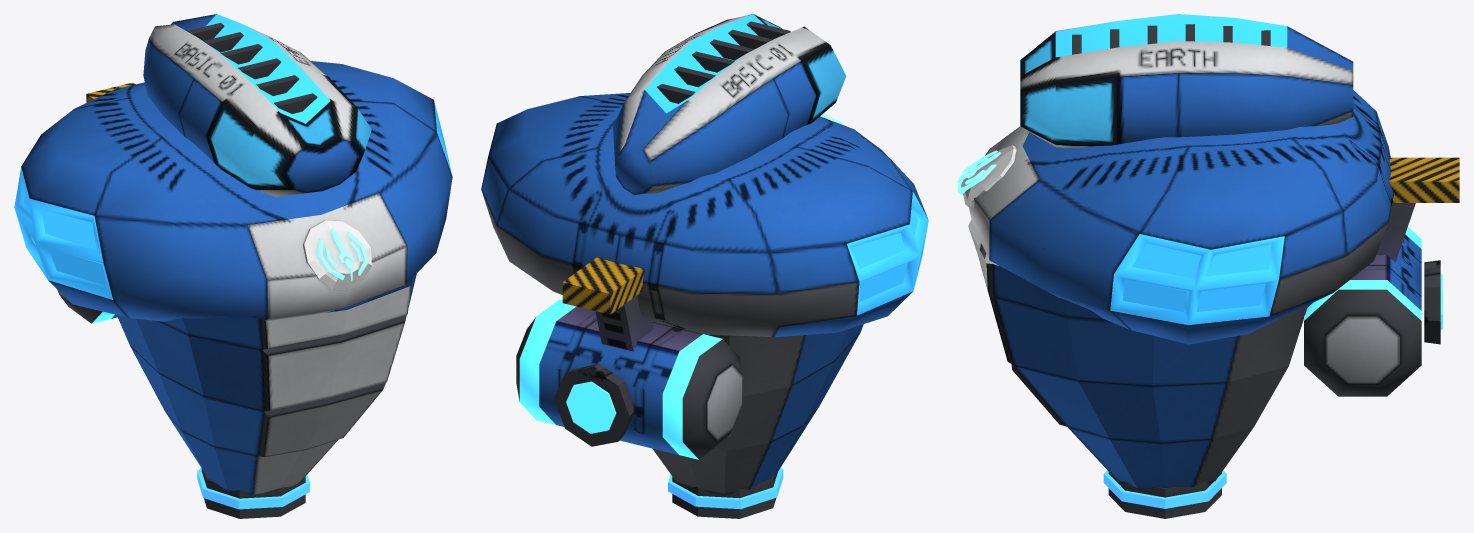
Rendered from BasicTorsoX.glb.
3 renders of one model, left to right at view 1: azimuth 30°, elevation 25°; view 2: azimuth 150°, elevation 25°; view 3: azimuth 270°, elevation 25°, orthographic. The views are drawn at different scales.
Visible parts, largest first — view 1: BasicTorsoX_Body, BasicTorsoX_Head; view 2: BasicTorsoX_Body, BasicTorsoX_Head; view 3: BasicTorsoX_Body, BasicTorsoX_Head.
Part boxes in pixels (x1,y1,x2,y2): BasicTorsoX_Body: (14, 61, 452, 518); BasicTorsoX_Head: (143, 14, 371, 196); BasicTorsoX_Body: (481, 93, 928, 518); BasicTorsoX_Head: (613, 14, 846, 195); BasicTorsoX_Body: (957, 90, 1459, 518); BasicTorsoX_Head: (1020, 14, 1353, 147).
Bounding box in the file's own units: 10.54 × 10.92 × 10.63.
12 materials, 8 textured.
